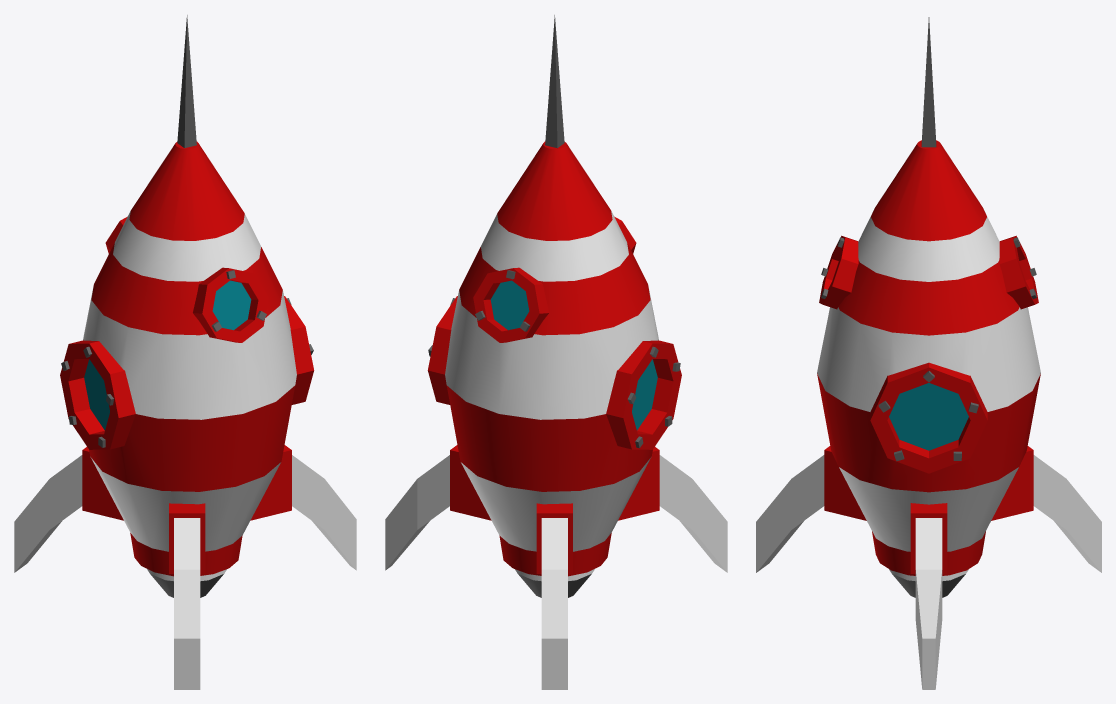
The model's file is raketa.fbx.
3 views of the same model, side by side, from view 1: azimuth 30°, elevation 25°; view 2: azimuth 150°, elevation 25°; view 3: azimuth 270°, elevation 25° (orthographic).
Visible parts, largest first — view 1: Rocket; view 2: Rocket; view 3: Rocket.
Boxes of the visible parts, x1,y1,x2,y2 form: Rocket: (14, 15, 356, 689); Rocket: (385, 15, 727, 689); Rocket: (756, 17, 1101, 689).
Bounding box in the file's own units: 21.49 × 45.7 × 24.07.
